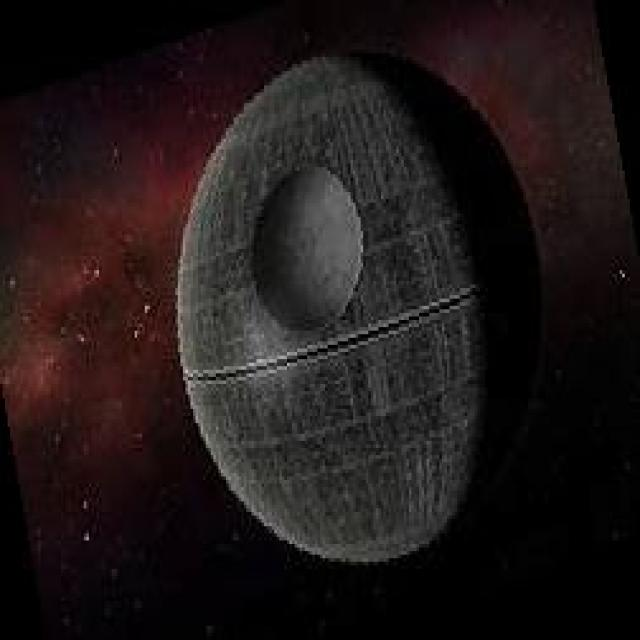Death Star: (159, 45, 556, 582)
